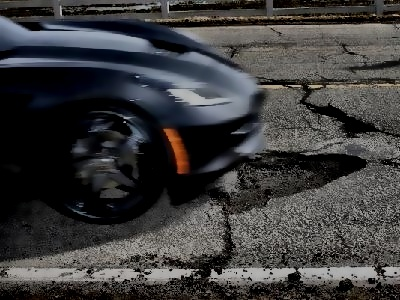pothole: (204, 148, 367, 214), (309, 102, 376, 135)
